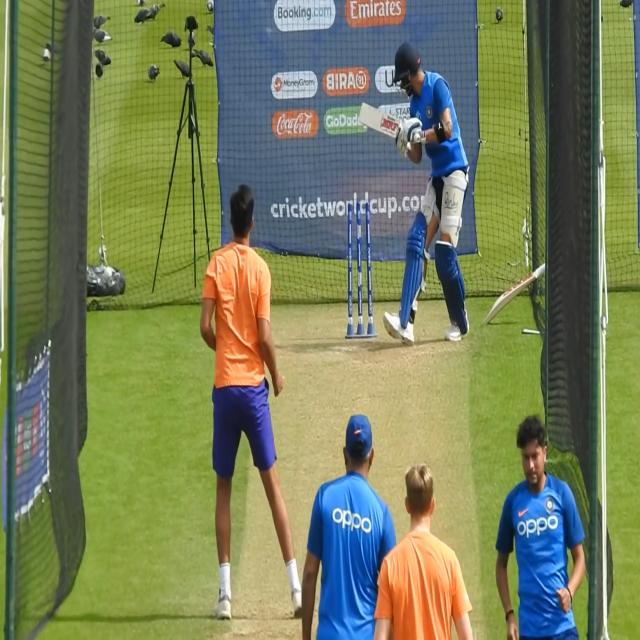ball: (102, 265, 114, 282)
stump: (344, 200, 376, 342)
